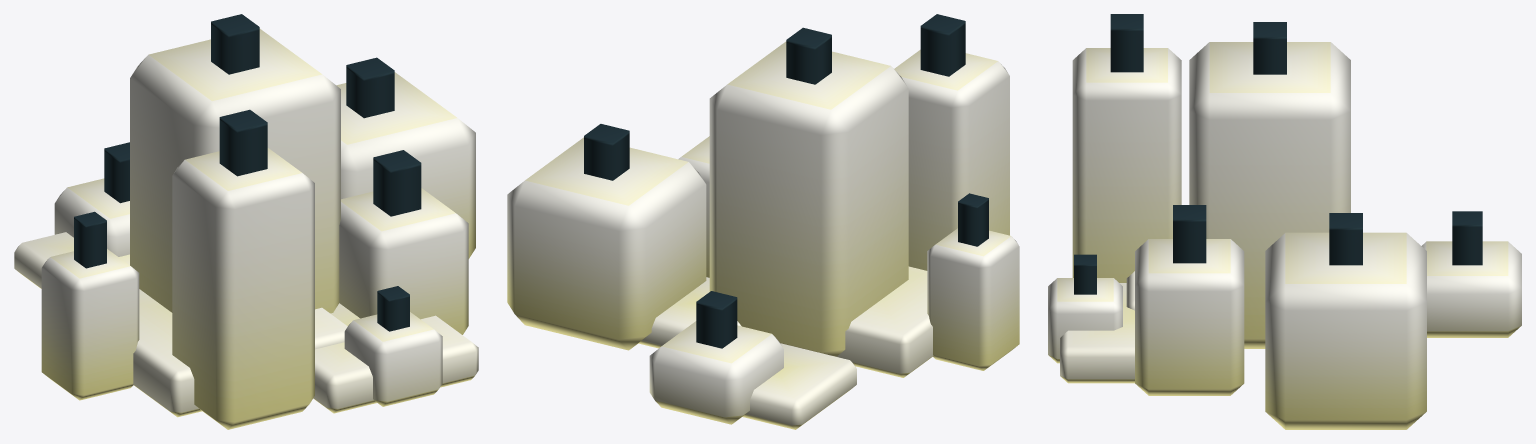
File: candle_arrangement_1.fbx
The picture shows the model from 3 angles, left to right: view 1: azimuth 30°, elevation 25°; view 2: azimuth 150°, elevation 25°; view 3: azimuth 270°, elevation 25°; orthographic projection. The views are drawn at different scales.
Parts seen in each view (by area): view 1: candle_arrangement_1; view 2: candle_arrangement_1; view 3: candle_arrangement_1.
Boxes of the visible parts, x1,y1,x2,y2 form: candle_arrangement_1: [14, 14, 478, 429]; candle_arrangement_1: [507, 14, 1019, 429]; candle_arrangement_1: [1048, 14, 1521, 429].
Size of the model in its own units: 120 by 80.1 by 117.
1 material, 1 textured.
